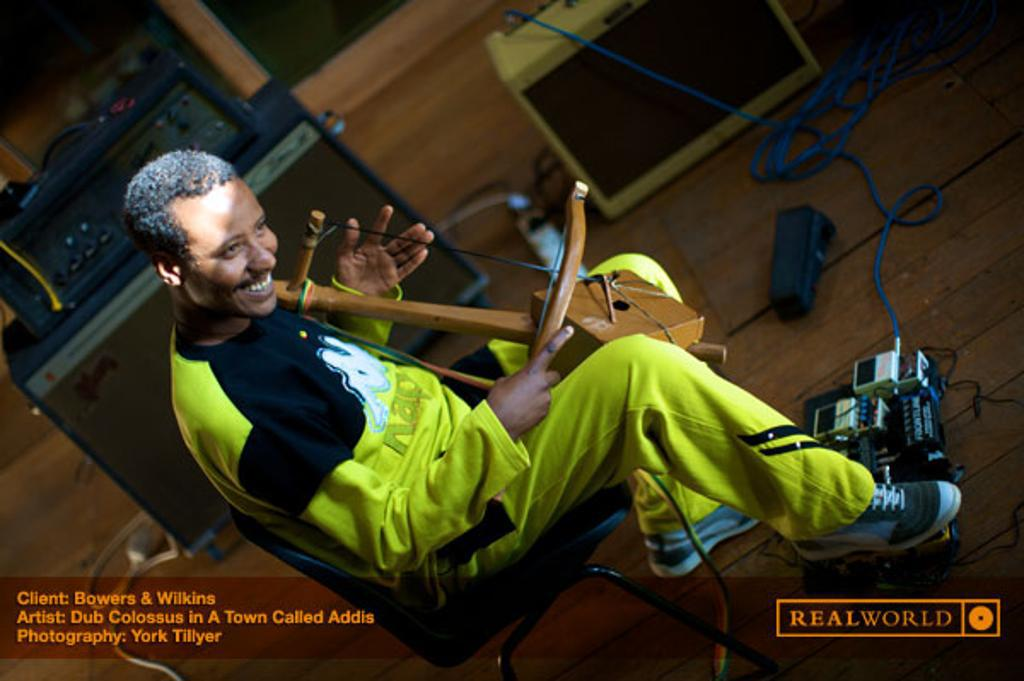face: (175, 187, 279, 319)
